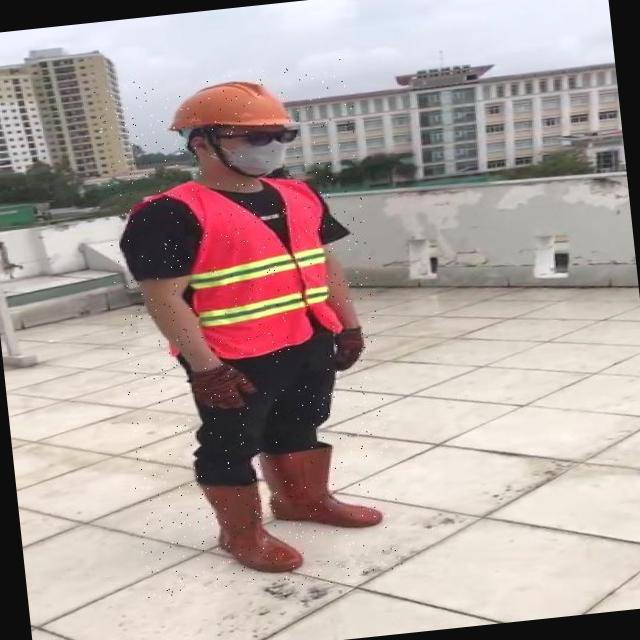boots: (260, 441, 382, 536), (201, 474, 303, 578)
helmet: (167, 72, 298, 138)
vest: (157, 170, 340, 360)
